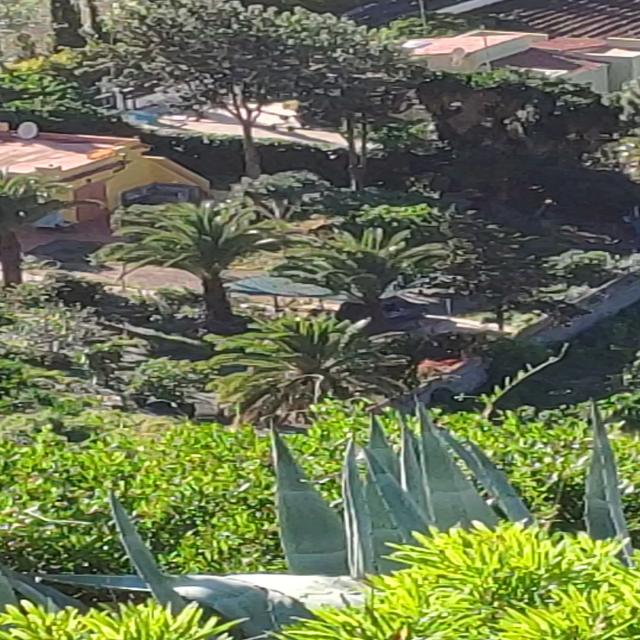Palm-Trees: (141, 206, 283, 316), (296, 230, 440, 324)
